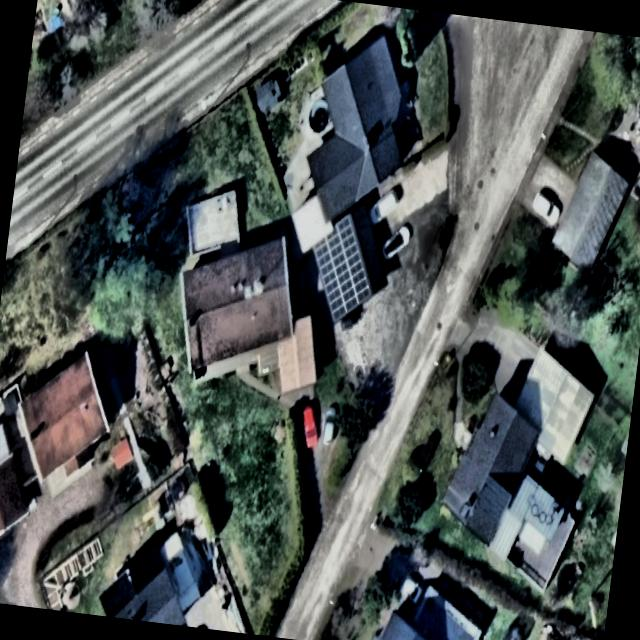roof_pv: (306, 213, 378, 324)
